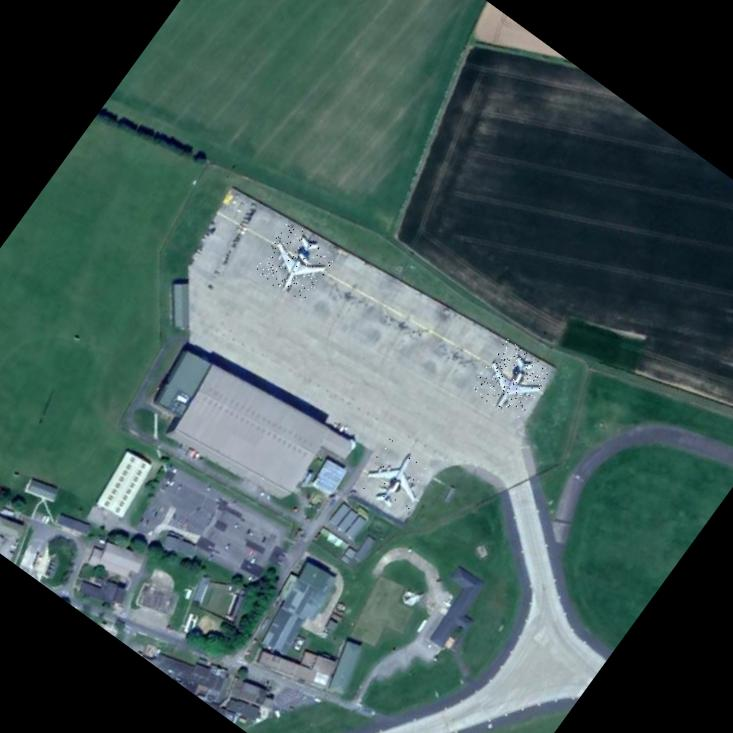A7: (252, 219, 338, 306), (468, 338, 552, 423), (356, 436, 436, 518)
